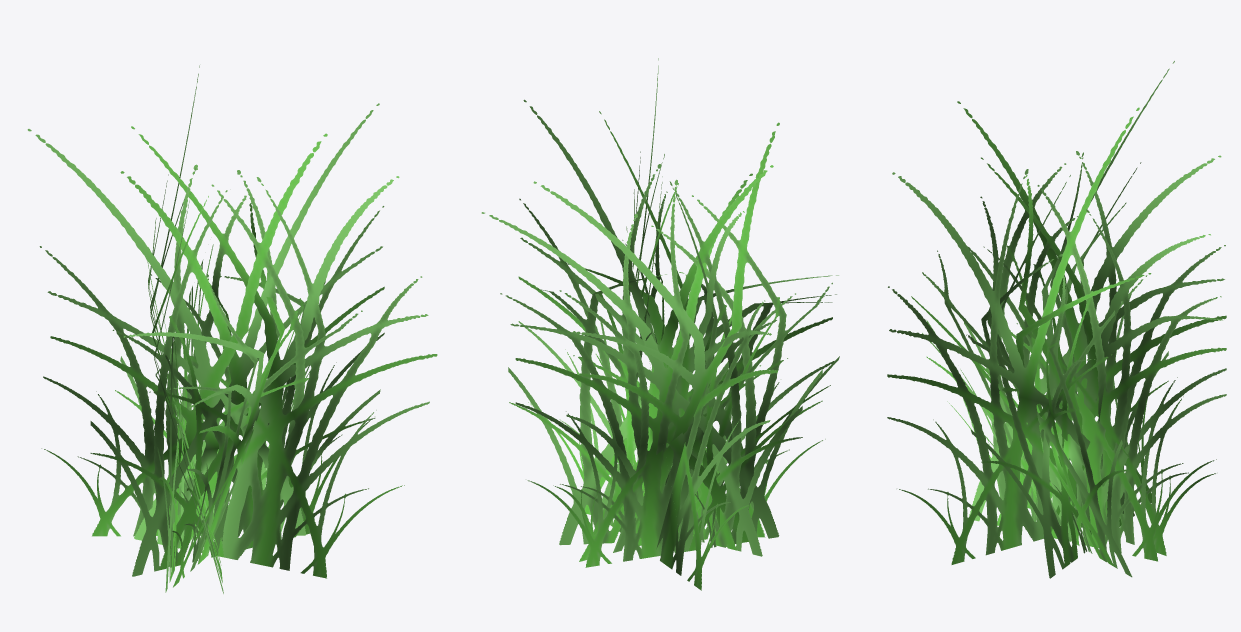
The model's file is GrassSmallClump.fbx.
3 views of the same model, side by side, from view 1: azimuth 30°, elevation 25°; view 2: azimuth 150°, elevation 25°; view 3: azimuth 270°, elevation 25° (orthographic). The views are drawn at different scales.
Visible parts, largest first — view 1: GrassSmall_clump; view 2: GrassSmall_clump; view 3: GrassSmall_clump.
Boxes of the visible parts, x1=… form: GrassSmall_clump: x1=27, y1=65, x2=437, y2=593; GrassSmall_clump: x1=481, y1=58, x2=839, y2=590; GrassSmall_clump: x1=887, y1=61, x2=1226, y2=578.
Size of the model in its own units: 1.06 by 1.49 by 0.9983.
